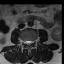CCS_normal: (27, 37, 29, 48)
LFS_normal: (32, 38, 34, 45)
LLS_normal: (29, 38, 32, 46)
RFS_normal: (22, 38, 25, 45)
RLS_normal: (25, 38, 27, 46)
